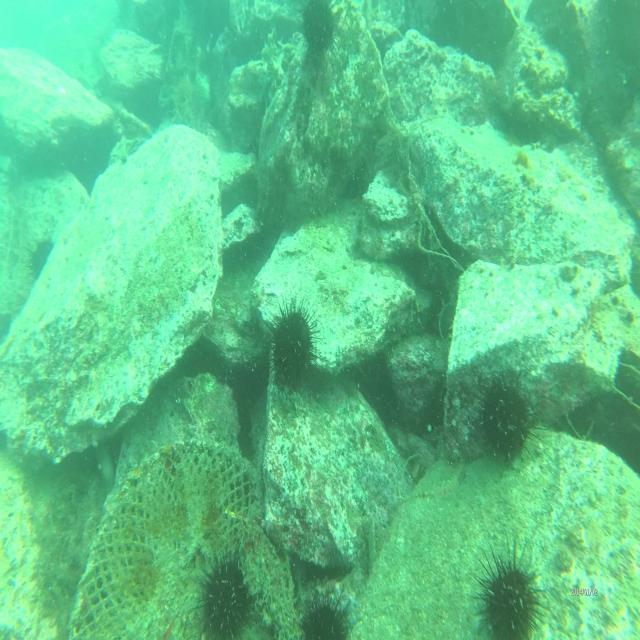echinus: (468, 538, 556, 640), (471, 370, 542, 472), (193, 549, 260, 640), (265, 297, 320, 399), (298, 586, 354, 640), (298, 3, 338, 54), (30, 237, 56, 279)
